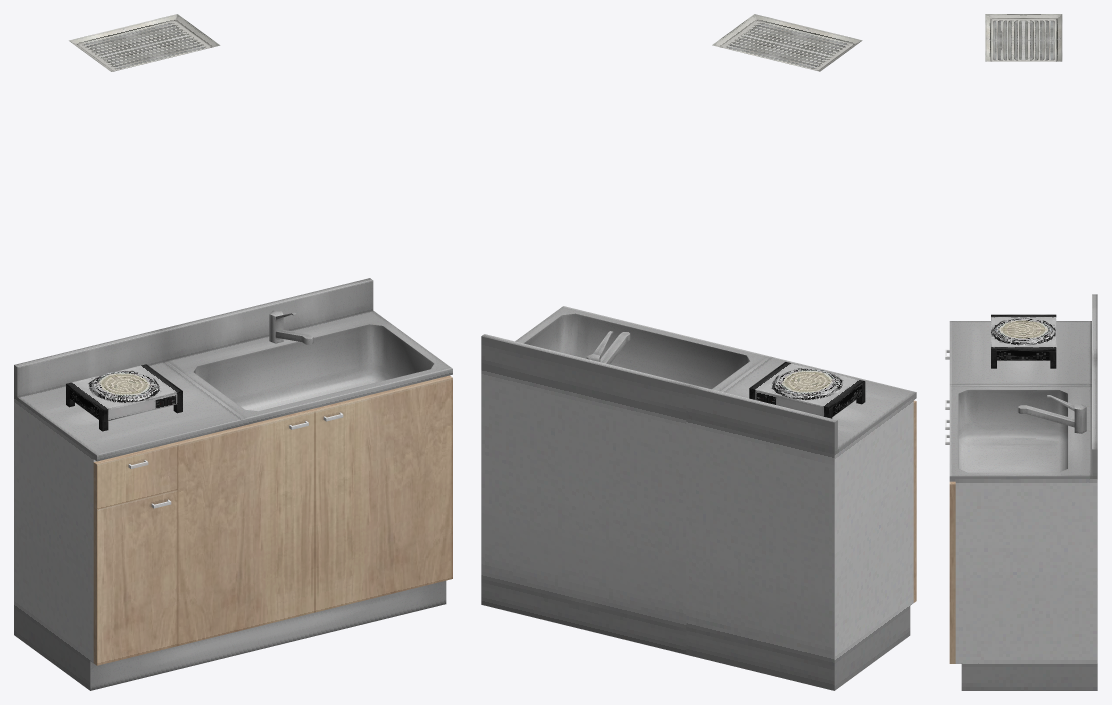
The model's file is Kitchen_Sink.glb.
3 views of the same model, side by side, from view 1: azimuth 30°, elevation 25°; view 2: azimuth 150°, elevation 25°; view 3: azimuth 270°, elevation 25° (orthographic). The views are drawn at different scales.
Parts seen in each view (by area): view 1: kitchen sink, kitchen sink.004, kitchen sink.008, kitchen sink.002, vent stove, electric stove, kitchen sink.005; view 2: kitchen sink, vent stove, electric stove; view 3: kitchen sink, vent stove, electric stove, kitchen sink.004.
Part boxes in pixels (bbox=[...]): kitchen sink: bbox=[14, 278, 452, 690]; kitchen sink.004: bbox=[312, 375, 452, 612]; kitchen sink.008: bbox=[174, 409, 314, 645]; kitchen sink.002: bbox=[93, 490, 177, 665]; vent stove: bbox=[69, 14, 220, 71]; electric stove: bbox=[66, 364, 182, 431]; kitchen sink.005: bbox=[93, 443, 177, 509]; kitchen sink: bbox=[481, 306, 916, 690]; vent stove: bbox=[712, 14, 862, 71]; electric stove: bbox=[749, 362, 865, 418]; kitchen sink: bbox=[949, 294, 1097, 690]; vent stove: bbox=[985, 14, 1062, 61]; electric stove: bbox=[991, 314, 1056, 368]; kitchen sink.004: bbox=[945, 434, 955, 663].
Bounding box in the file's own units: 1.24 × 2 × 0.515.
3 materials, 3 textured.
